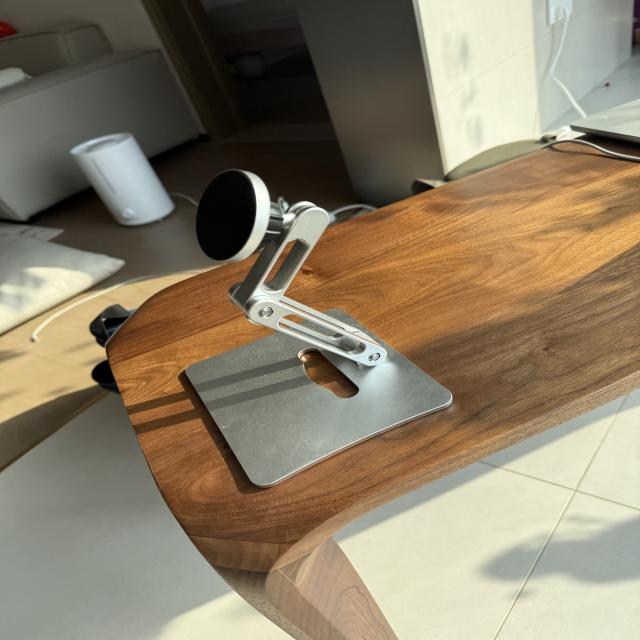phone holder: (163, 159, 474, 495)
